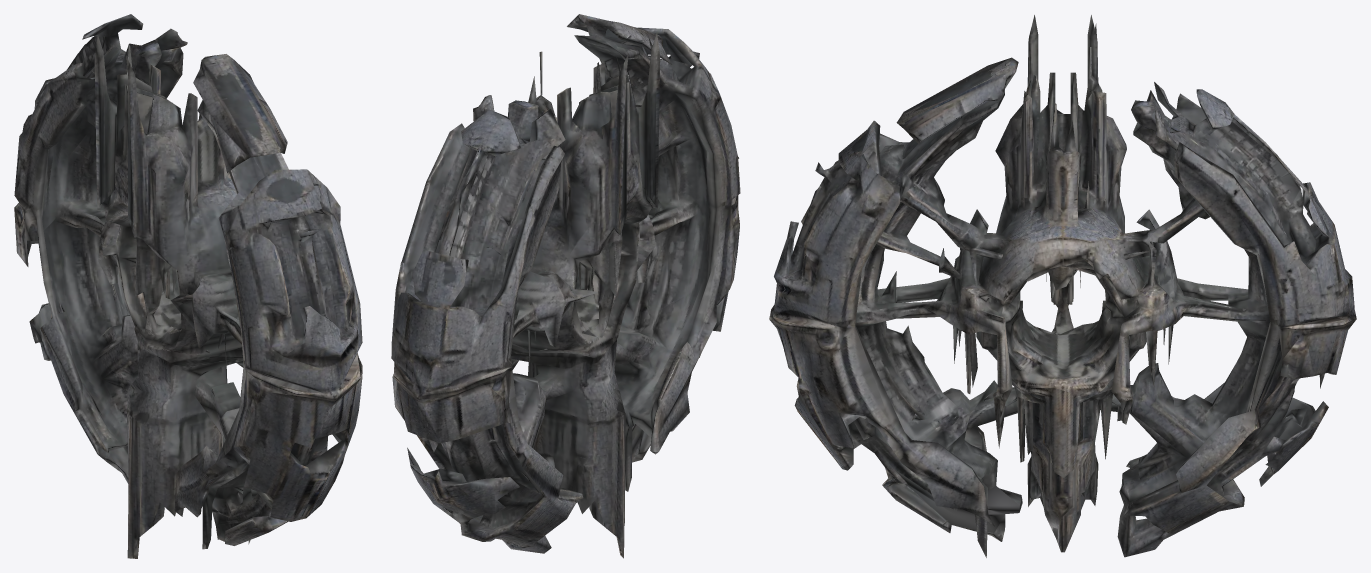
The model's file is monument_abandoned_space_wreckage.glb.
3 renders of one model, left to right at view 1: azimuth 30°, elevation 25°; view 2: azimuth 150°, elevation 25°; view 3: azimuth 270°, elevation 25°, orthographic.
Visible parts, largest first — view 1: tripo_90b42426_8d3c_44dd_8225_4151a234e6ea; view 2: tripo_90b42426_8d3c_44dd_8225_4151a234e6ea; view 3: tripo_90b42426_8d3c_44dd_8225_4151a234e6ea.
Boxes of the visible parts, <box> form: tripo_90b42426_8d3c_44dd_8225_4151a234e6ea: <box>14,14,362,558</box>; tripo_90b42426_8d3c_44dd_8225_4151a234e6ea: <box>391,14,740,558</box>; tripo_90b42426_8d3c_44dd_8225_4151a234e6ea: <box>769,15,1356,557</box>.
Size of the model in its own units: 0.3218 by 0.9751 by 0.9995.
1 material, 1 textured.
